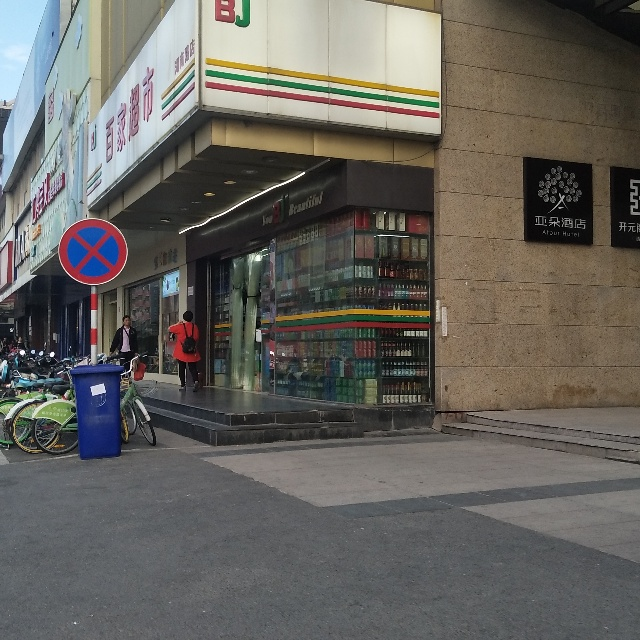stop: (59, 226, 122, 276)
